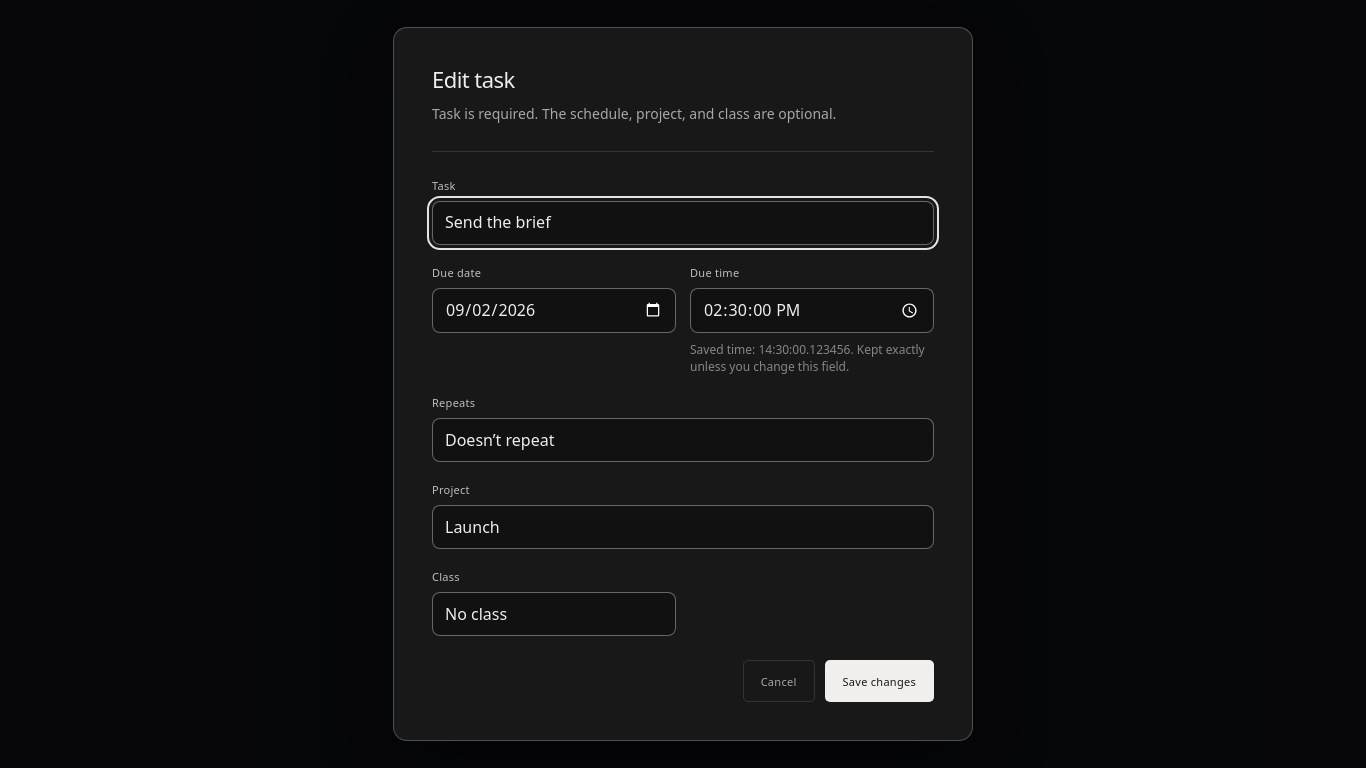
Test: TodoFormDialog edit and reschedule modes › clears both schedule fields together when the date is removed
Later steps or results of the test are not shown.
Type "2026-09-03" into the date field labelled "Due date".
click(554, 310); type("2026-09-03")  # box [432, 288, 676, 333]
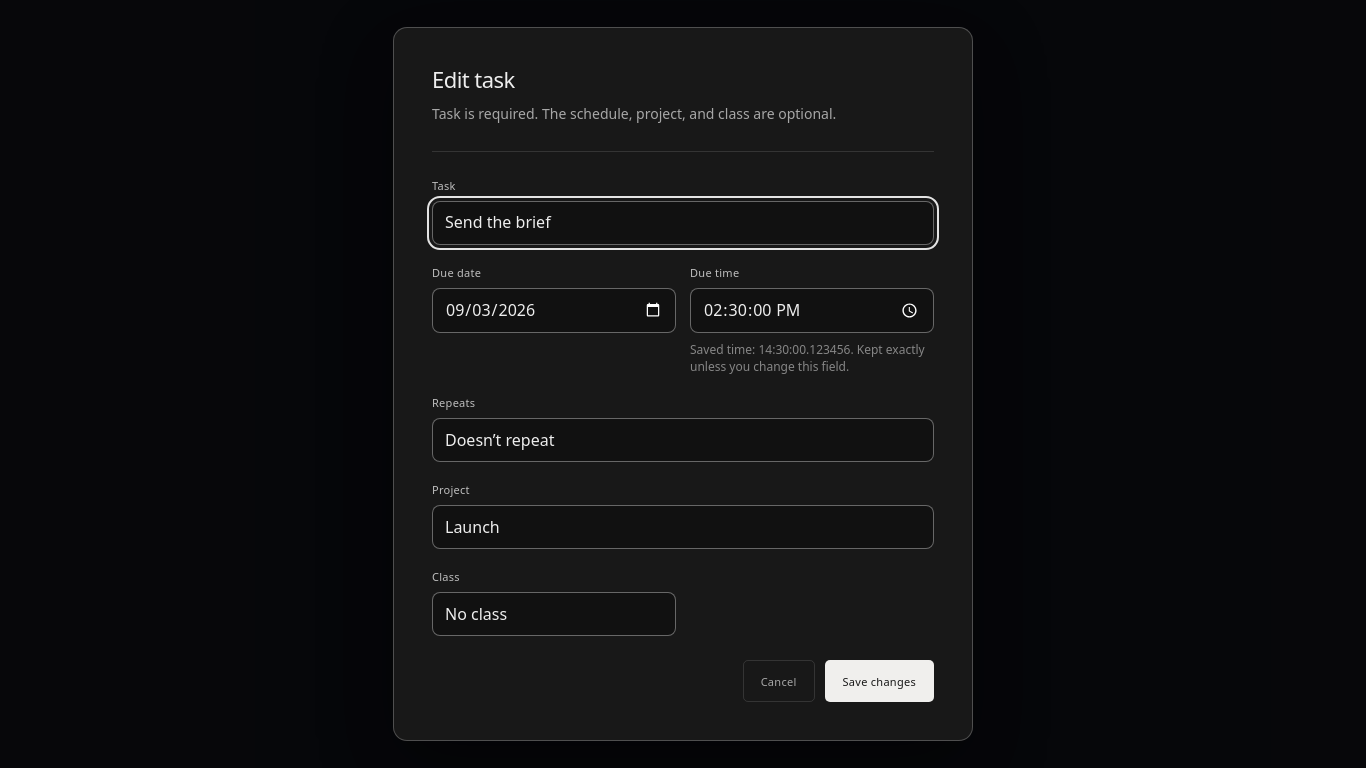
Clear the date field labelled "Due date" at [554, 310], box [432, 288, 676, 333]
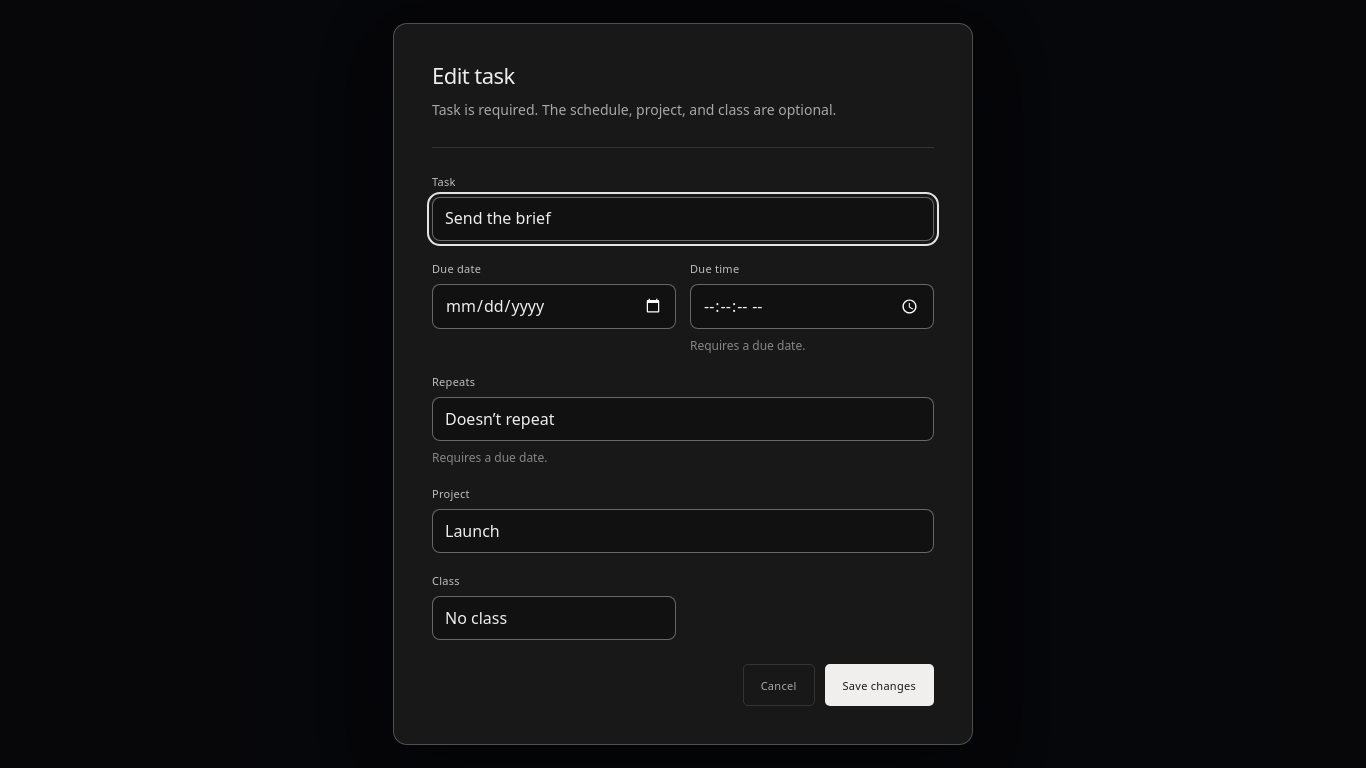
Now the time field labelled "Due time" is empty, box [690, 284, 934, 329]
